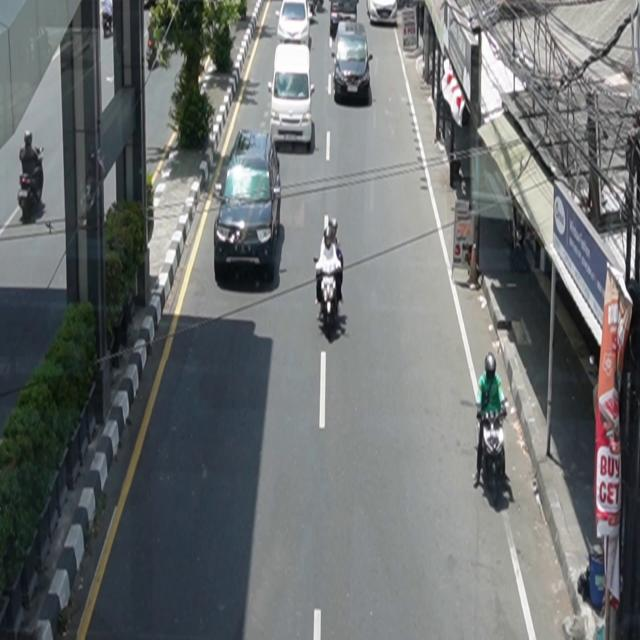car: (215, 129, 283, 281), (268, 43, 316, 150), (331, 20, 374, 100)
